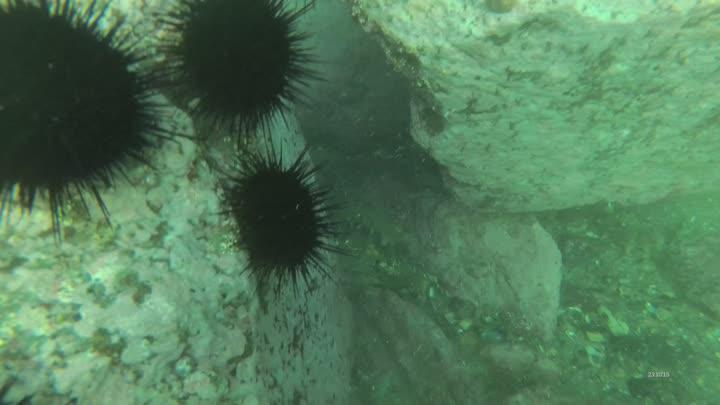urchin: (2, 3, 177, 225), (153, 5, 333, 153), (215, 150, 345, 284)
